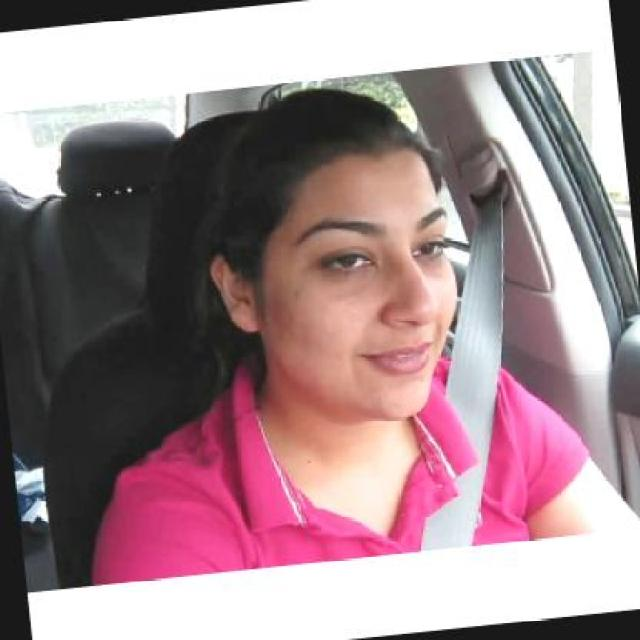attentif: (194, 74, 469, 434)
